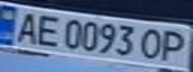0: (60, 16, 84, 51), (78, 18, 100, 54)
3: (115, 21, 142, 59)
9: (96, 20, 121, 56)
A: (6, 8, 42, 45)
E: (30, 11, 63, 47)
O: (136, 26, 169, 61)
P: (157, 27, 193, 64)
